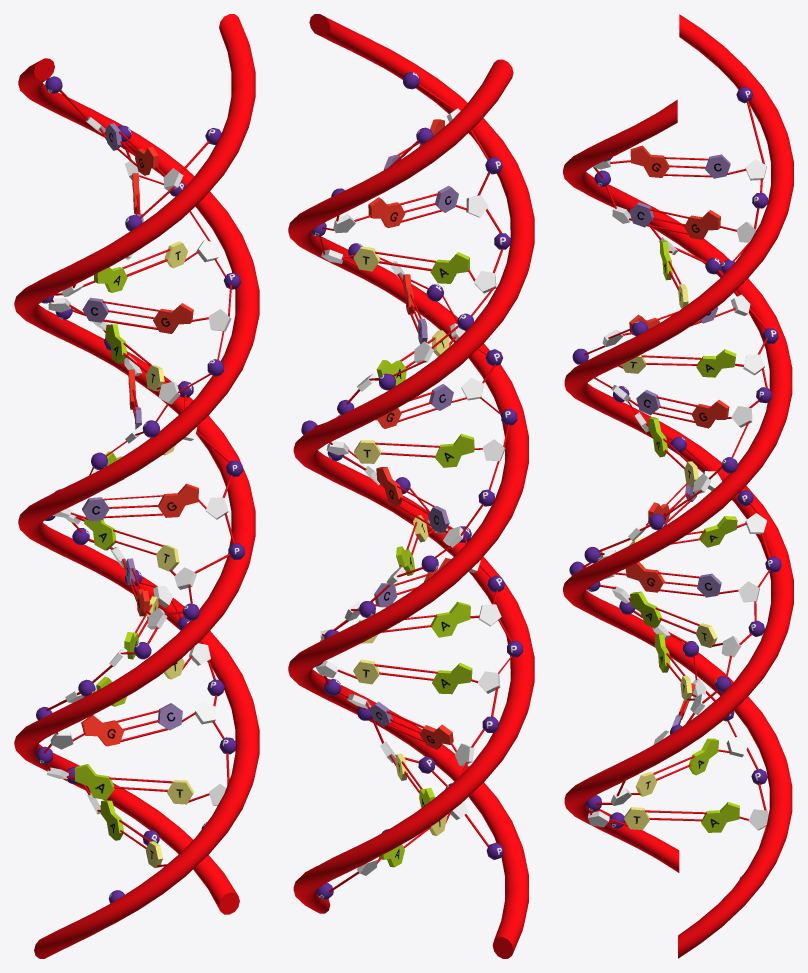
File: adn.glb
3 renders of one model, left to right at view 1: azimuth 30°, elevation 25°; view 2: azimuth 150°, elevation 25°; view 3: azimuth 270°, elevation 25°, orthographic. The views are drawn at different scales.
Visible parts, largest first — view 1: Sugar_phosphate_backbone_2_Double_helical_DNA_Hydrogen_Bonds, Sugar_phosphate_backbone_53_Double_helical_DNA_Hydrogen_Bond, Deoxyribose_Sugar_All_Adenine_Pentose_Guanine_Thymine_cytosi, phosphate_All_Adenine_Pentose_Guanine_Thymine_cytosine_Diff_, Guanine_All_Adenine_Pentose_Guanine_Thymine_cytosine_Diff_0_, Adenine_All_Adenine_Pentose_Guanine_Thymine_cytosine_Diff_0_, Thymine_All_Adenine_Pentose_Guanine_Thymine_cytosine_Diff_0_, Cytosine_All_Adenine_Pentose_Guanine_Thymine_cytosine_Diff_0, Hydrogen_Bonds_3_Pairing_ALL_Double_helical_DNA_Hydrogen_Bon, Sugar_phosphate_backbone_1_Double_helical_DNA_Hydrogen_Bonds, Sugar_phosphate_backbone_54_Double_helical_DNA_Hydrogen_Bond, Hydrogen_Bonds_2_Pairing_All_Double_helical_DNA_Hydrogen_Bon (+1 smaller); view 2: Sugar_phosphate_backbone_53_Double_helical_DNA_Hydrogen_Bond, Sugar_phosphate_backbone_2_Double_helical_DNA_Hydrogen_Bonds, Deoxyribose_Sugar_All_Adenine_Pentose_Guanine_Thymine_cytosi, phosphate_All_Adenine_Pentose_Guanine_Thymine_cytosine_Diff_, Adenine_All_Adenine_Pentose_Guanine_Thymine_cytosine_Diff_0_, Guanine_All_Adenine_Pentose_Guanine_Thymine_cytosine_Diff_0_, Thymine_All_Adenine_Pentose_Guanine_Thymine_cytosine_Diff_0_, Cytosine_All_Adenine_Pentose_Guanine_Thymine_cytosine_Diff_0, Hydrogen_Bonds_2_Pairing_All_Double_helical_DNA_Hydrogen_Bon, Sugar_phosphate_backbone_1_Double_helical_DNA_Hydrogen_Bonds, Sugar_phosphate_backbone_54_Double_helical_DNA_Hydrogen_Bond, Hydrogen_Bonds_3_Pairing_ALL_Double_helical_DNA_Hydrogen_Bon; view 3: Sugar_phosphate_backbone_2_Double_helical_DNA_Hydrogen_Bonds, Sugar_phosphate_backbone_53_Double_helical_DNA_Hydrogen_Bond, Deoxyribose_Sugar_All_Adenine_Pentose_Guanine_Thymine_cytosi, phosphate_All_Adenine_Pentose_Guanine_Thymine_cytosine_Diff_, Adenine_All_Adenine_Pentose_Guanine_Thymine_cytosine_Diff_0_, Guanine_All_Adenine_Pentose_Guanine_Thymine_cytosine_Diff_0_, Thymine_All_Adenine_Pentose_Guanine_Thymine_cytosine_Diff_0_, Cytosine_All_Adenine_Pentose_Guanine_Thymine_cytosine_Diff_0, Sugar_phosphate_backbone_1_Double_helical_DNA_Hydrogen_Bonds, Hydrogen_Bonds_2_Pairing_All_Double_helical_DNA_Hydrogen_Bon, Hydrogen_Bonds_3_Pairing_ALL_Double_helical_DNA_Hydrogen_Bon, Sugar_phosphate_backbone_54_Double_helical_DNA_Hydrogen_Bond (+2 smaller).
Part boxes in pixels (bbox=[...]): Sugar_phosphate_backbone_2_Double_helical_DNA_Hydrogen_Bonds: bbox=[18, 58, 259, 958]; Sugar_phosphate_backbone_53_Double_helical_DNA_Hydrogen_Bond: bbox=[14, 14, 255, 914]; Deoxyribose_Sugar_All_Adenine_Pentose_Guanine_Thymine_cytosi: bbox=[47, 116, 231, 814]; phosphate_All_Adenine_Pentose_Guanine_Thymine_cytosine_Diff_: bbox=[36, 76, 244, 903]; Guanine_All_Adenine_Pentose_Guanine_Thymine_cytosine_Diff_0_: bbox=[81, 147, 198, 746]; Adenine_All_Adenine_Pentose_Guanine_Thymine_cytosine_Diff_0_: bbox=[74, 267, 138, 840]; Thymine_All_Adenine_Pentose_Guanine_Thymine_cytosine_Diff_0_: bbox=[145, 241, 193, 867]; Cytosine_All_Adenine_Pentose_Guanine_Thymine_cytosine_Diff_0: bbox=[82, 123, 182, 730]; Hydrogen_Bonds_3_Pairing_ALL_Double_helical_DNA_Hydrogen_Bon: bbox=[102, 131, 167, 742]; Sugar_phosphate_backbone_1_Double_helical_DNA_Hydrogen_Bonds: bbox=[43, 141, 234, 835]; Sugar_phosphate_backbone_54_Double_helical_DNA_Hydrogen_Bond: bbox=[59, 90, 231, 784]; Hydrogen_Bonds_2_Pairing_All_Double_helical_DNA_Hydrogen_Bon: bbox=[109, 248, 172, 848]; Sugar_phosphate_backbone_53_Double_helical_DNA_Hydrogen_Bond: bbox=[293, 14, 534, 913]; Sugar_phosphate_backbone_2_Double_helical_DNA_Hydrogen_Bonds: bbox=[288, 59, 528, 958]; Deoxyribose_Sugar_All_Adenine_Pentose_Guanine_Thymine_cytosi: bbox=[315, 108, 505, 875]; phosphate_All_Adenine_Pentose_Guanine_Thymine_cytosine_Diff_: bbox=[301, 72, 522, 899]; Adenine_All_Adenine_Pentose_Guanine_Thymine_cytosine_Diff_0_: bbox=[379, 252, 474, 867]; Guanine_All_Adenine_Pentose_Guanine_Thymine_cytosine_Diff_0_: bbox=[368, 119, 453, 749]; Thymine_All_Adenine_Pentose_Guanine_Thymine_cytosine_Diff_0_: bbox=[353, 246, 446, 835]; Cytosine_All_Adenine_Pentose_Guanine_Thymine_cytosine_Diff_0: bbox=[369, 155, 458, 726]; Hydrogen_Bonds_2_Pairing_All_Double_helical_DNA_Hydrogen_Bon: bbox=[374, 251, 439, 848]; Sugar_phosphate_backbone_1_Double_helical_DNA_Hydrogen_Bonds: bbox=[314, 84, 512, 892]; Sugar_phosphate_backbone_54_Double_helical_DNA_Hydrogen_Bond: bbox=[319, 140, 509, 846]; Hydrogen_Bonds_3_Pairing_ALL_Double_helical_DNA_Hydrogen_Bon: bbox=[386, 142, 441, 742]; Sugar_phosphate_backbone_2_Double_helical_DNA_Hydrogen_Bonds: bbox=[564, 14, 793, 872]; Sugar_phosphate_backbone_53_Double_helical_DNA_Hydrogen_Bond: bbox=[563, 99, 792, 958]; Deoxyribose_Sugar_All_Adenine_Pentose_Guanine_Thymine_cytosi: bbox=[588, 159, 768, 830]; phosphate_All_Adenine_Pentose_Guanine_Thymine_cytosine_Diff_: bbox=[569, 86, 781, 879]; Adenine_All_Adenine_Pentose_Guanine_Thymine_cytosine_Diff_0_: bbox=[630, 240, 739, 832]; Guanine_All_Adenine_Pentose_Guanine_Thymine_cytosine_Diff_0_: bbox=[625, 145, 720, 719]; Thymine_All_Adenine_Pentose_Guanine_Thymine_cytosine_Diff_0_: bbox=[624, 284, 717, 829]; Cytosine_All_Adenine_Pentose_Guanine_Thymine_cytosine_Diff_0: bbox=[629, 154, 730, 727]; Sugar_phosphate_backbone_1_Double_helical_DNA_Hydrogen_Bonds: bbox=[582, 167, 767, 847]; Hydrogen_Bonds_2_Pairing_All_Double_helical_DNA_Hydrogen_Bon: bbox=[644, 261, 706, 821]; Hydrogen_Bonds_3_Pairing_ALL_Double_helical_DNA_Hydrogen_Bon: bbox=[646, 157, 711, 716]; Sugar_phosphate_backbone_54_Double_helical_DNA_Hydrogen_Bond: bbox=[584, 101, 770, 823].
Bounding box in the file's own units: 0.0204 × 0.082 × 0.02.
Materials: 2 (1 with a texture image).
